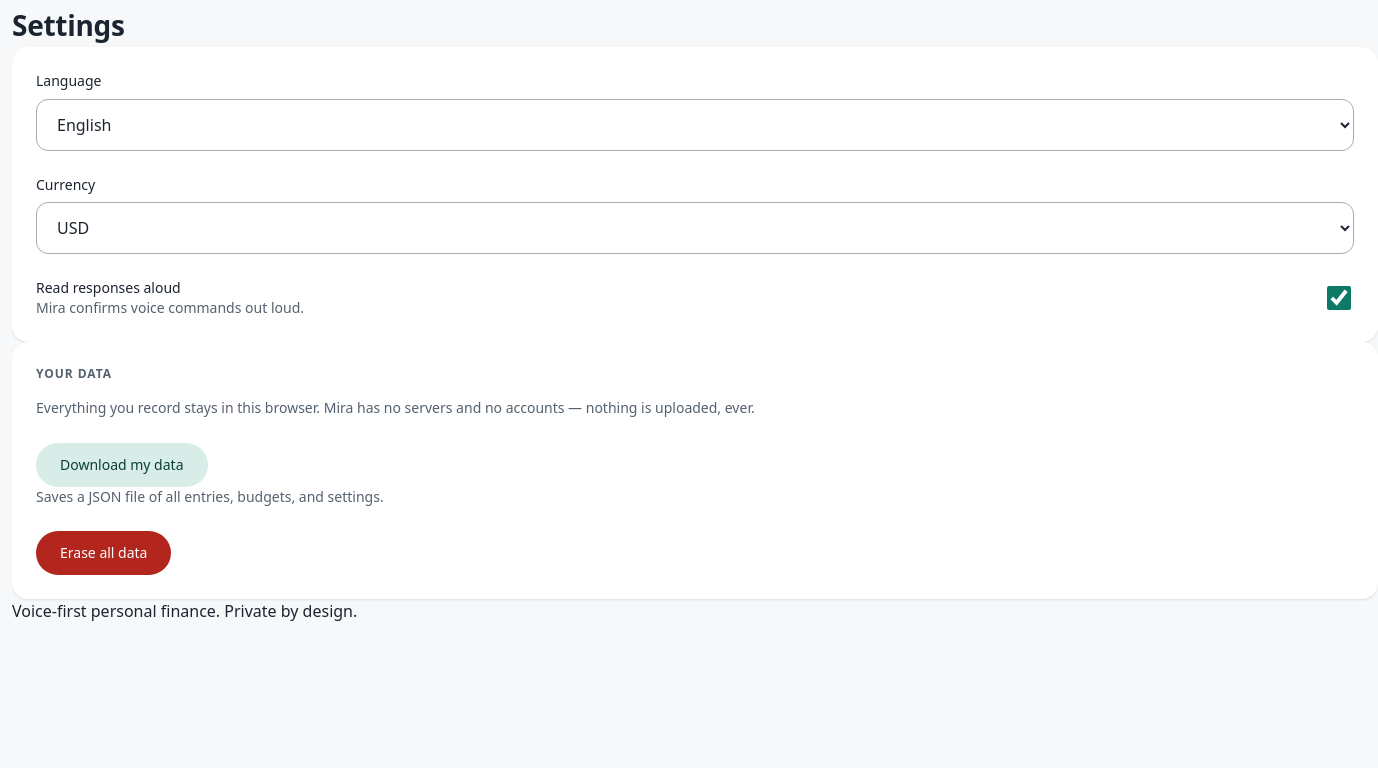
Test: SettingsPage › toggles spoken responses
Click the checkbox named "Read responses aloud": (1339, 298) [1327, 286, 1351, 310]
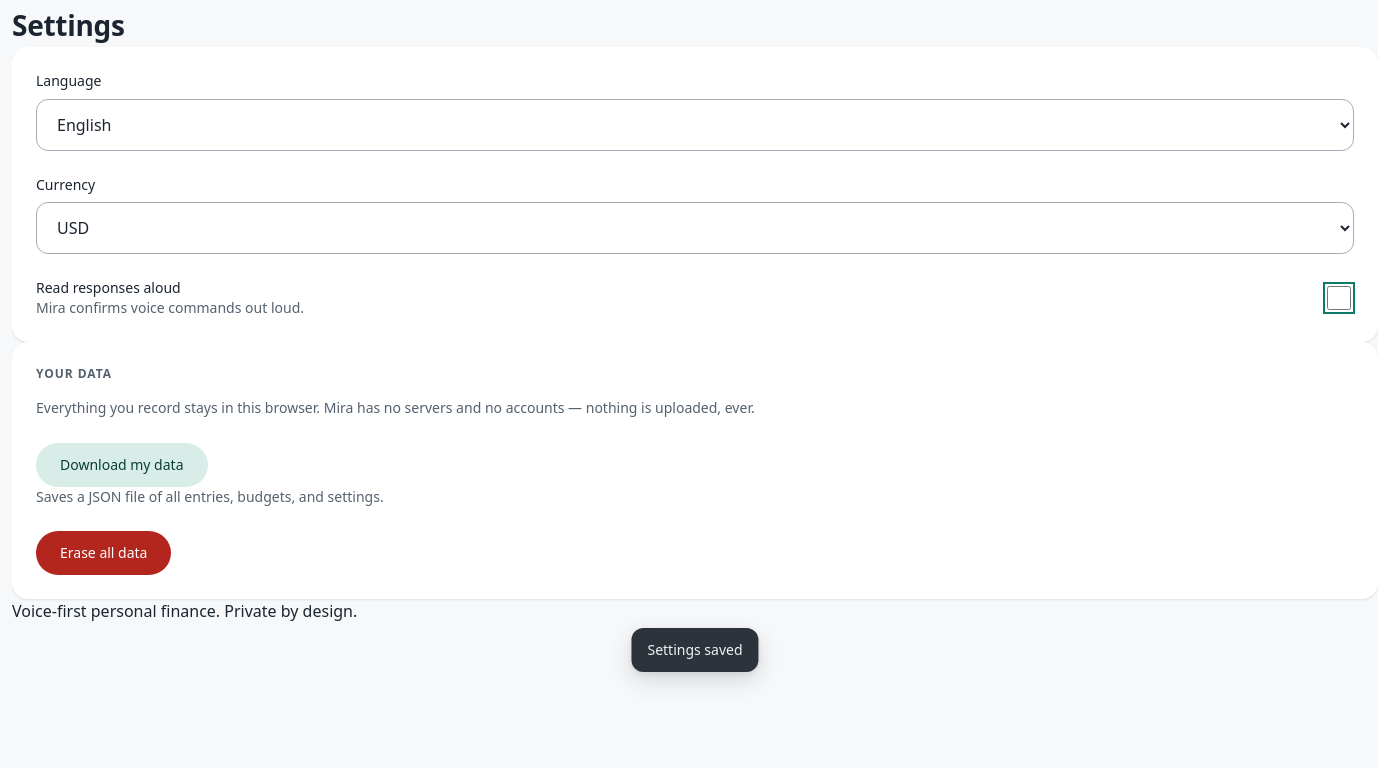
Result: the checkbox named "Read responses aloud" is not checked at [1327, 286, 1351, 310]
Result: the message reads "Settings saved" at [648, 640, 743, 659]
